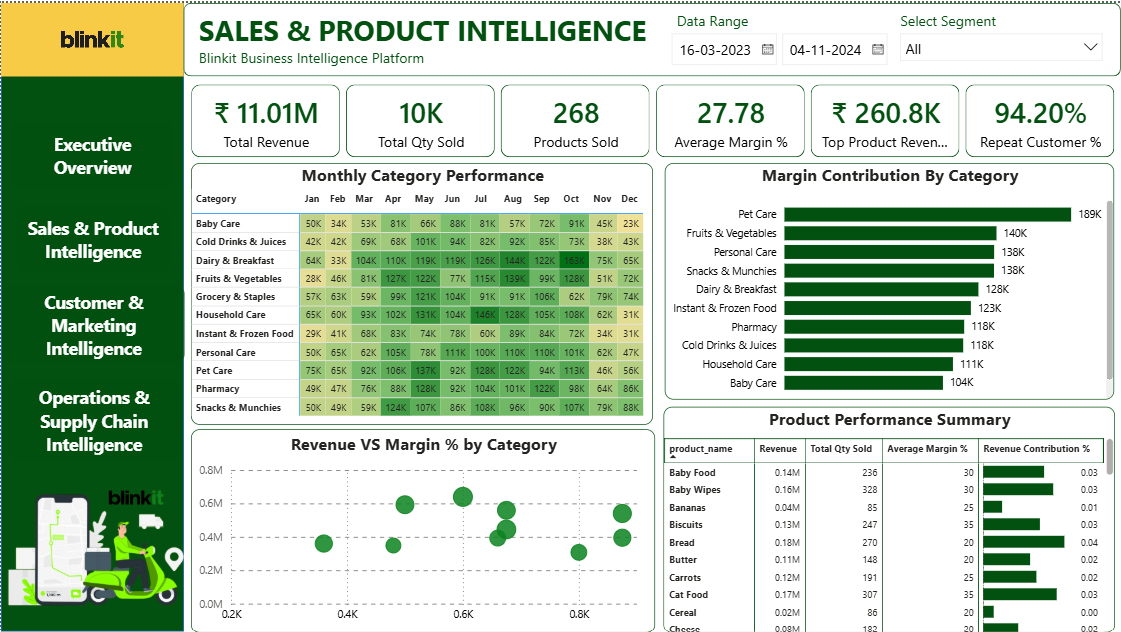

The page's visual inventory and layout, read from the dashboard file:
{"tool":"powerbi","page":{"name":"Sales & Product Intelligence","canvas":[1280,720],"ordinal":1},"visuals":[{"type":"shape","box":[0,0,209.1,719.5],"z":0},{"type":"image","box":[0,0,208.8,83.8],"z":1000},{"type":"shape","box":[208.8,0,1071.2,83.8],"z":2000},{"type":"cardVisual","fields":{"Data":["Measuress.Total Revenue","Measuress.Total Qty Sold","Measuress.Products Sold","Measuress.Average Margin %","Measuress.Top Product Revenue","Measuress.Repeat Customer %"]},"box":[214,90.5,1066.3,89.3],"z":3000},{"type":"actionButton","box":[11.2,136.2,186.2,77.5],"z":4000},{"type":"image","box":[1.2,525,208.8,195],"z":5000},{"type":"textbox","box":[767.2,3.8,108.8,37.5],"z":6000},{"type":"textbox","box":[1022.2,3.8,186.2,37.5],"z":7000},{"type":"slicer","fields":{"Values":["public customers.customer_segment"]},"box":[1022.2,30,241.2,45],"z":8000},{"type":"textbox","box":[210.3,3.7,547.8,74.6],"z":9000},{"type":"clusteredBarChart","title":"Margin Contribution By Category","fields":{"Category":["public products.category"],"Y":["Measuress.Margin Amount"]},"box":[758.2,183.4,513.6,270.2],"z":10000},{"type":"scatterChart","title":"Revenue VS Margin % by Category","fields":{"Y":["Measuress.Revenue"],"Size":["Measuress.Total Qty Sold"],"X":["Sum(public products.margin_percentage)"],"Category":["public products.category"]},"box":[216.4,486.7,530.7,233.6],"z":11000},{"type":"pivotTable","title":"Monthly Category Performance","fields":{"Rows":["public products.category"],"Values":["Measuress.Total Revenue"],"Columns":["public orders.Month Name"]},"box":[216.4,183.4,528.3,299.6],"z":12000},{"type":"slicer","fields":{"Values":["public orders.order_date"]},"box":[758.5,30,263.8,50],"z":13000},{"type":"pivotTable","title":"Product Performance Summary","fields":{"Rows":["public products.product_name"],"Values":["Measuress.Revenue","Measuress.Total Qty Sold","Measuress.Average Margin %","Measuress.Revenue Contribution %"]},"box":[757.5,461.1,516,259.3],"z":14000},{"type":"actionButton","box":[17.5,231.2,176.2,77.5],"z":16000},{"type":"actionButton","box":[1.2,322.8,209.1,88],"z":17000},{"type":"actionButton","box":[8.6,430.4,195.7,94.2],"z":18000}]}

Visuals, with their boxes on the page's 1280x720 design canvas (x1, y1, x2, y2). These are canvas units, not pixel positions in the 1121x632 screenshot, which may show the page scaled, cropped or inside an application window:
shape: x1=0 y1=0 x2=209 y2=720
image: x1=0 y1=0 x2=209 y2=84
shape: x1=209 y1=0 x2=1280 y2=84
cardVisual - Measuress.Total Revenue x Measuress.Total Qty Sold: x1=214 y1=90 x2=1280 y2=180
actionButton: x1=11 y1=136 x2=197 y2=214
image: x1=1 y1=525 x2=210 y2=720
textbox: x1=767 y1=4 x2=876 y2=41
textbox: x1=1022 y1=4 x2=1208 y2=41
slicer - public customers.customer_segment: x1=1022 y1=30 x2=1263 y2=75
textbox: x1=210 y1=4 x2=758 y2=78
"Margin Contribution By Category" clusteredBarChart: x1=758 y1=183 x2=1272 y2=454
"Revenue VS Margin % by Category" scatterChart: x1=216 y1=487 x2=747 y2=720
"Monthly Category Performance" pivotTable: x1=216 y1=183 x2=745 y2=483
slicer - public orders.order_date: x1=758 y1=30 x2=1022 y2=80
"Product Performance Summary" pivotTable: x1=758 y1=461 x2=1274 y2=720
actionButton: x1=18 y1=231 x2=194 y2=309
actionButton: x1=1 y1=323 x2=210 y2=411
actionButton: x1=9 y1=430 x2=204 y2=525
